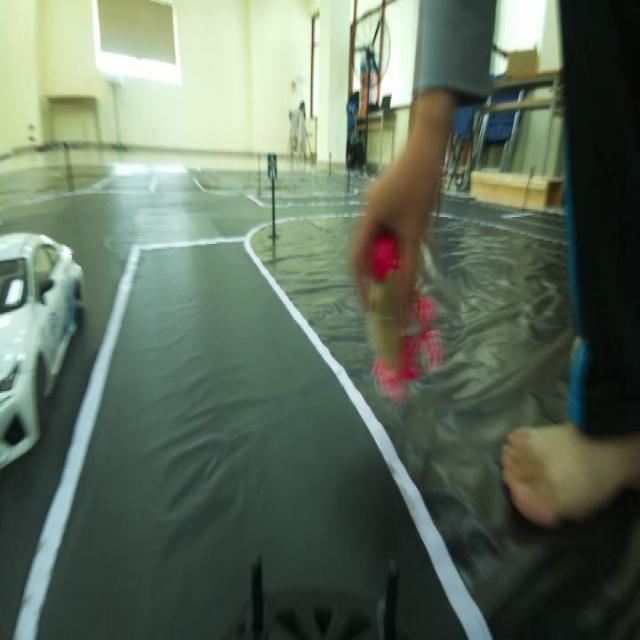car: (0, 200, 89, 476)
